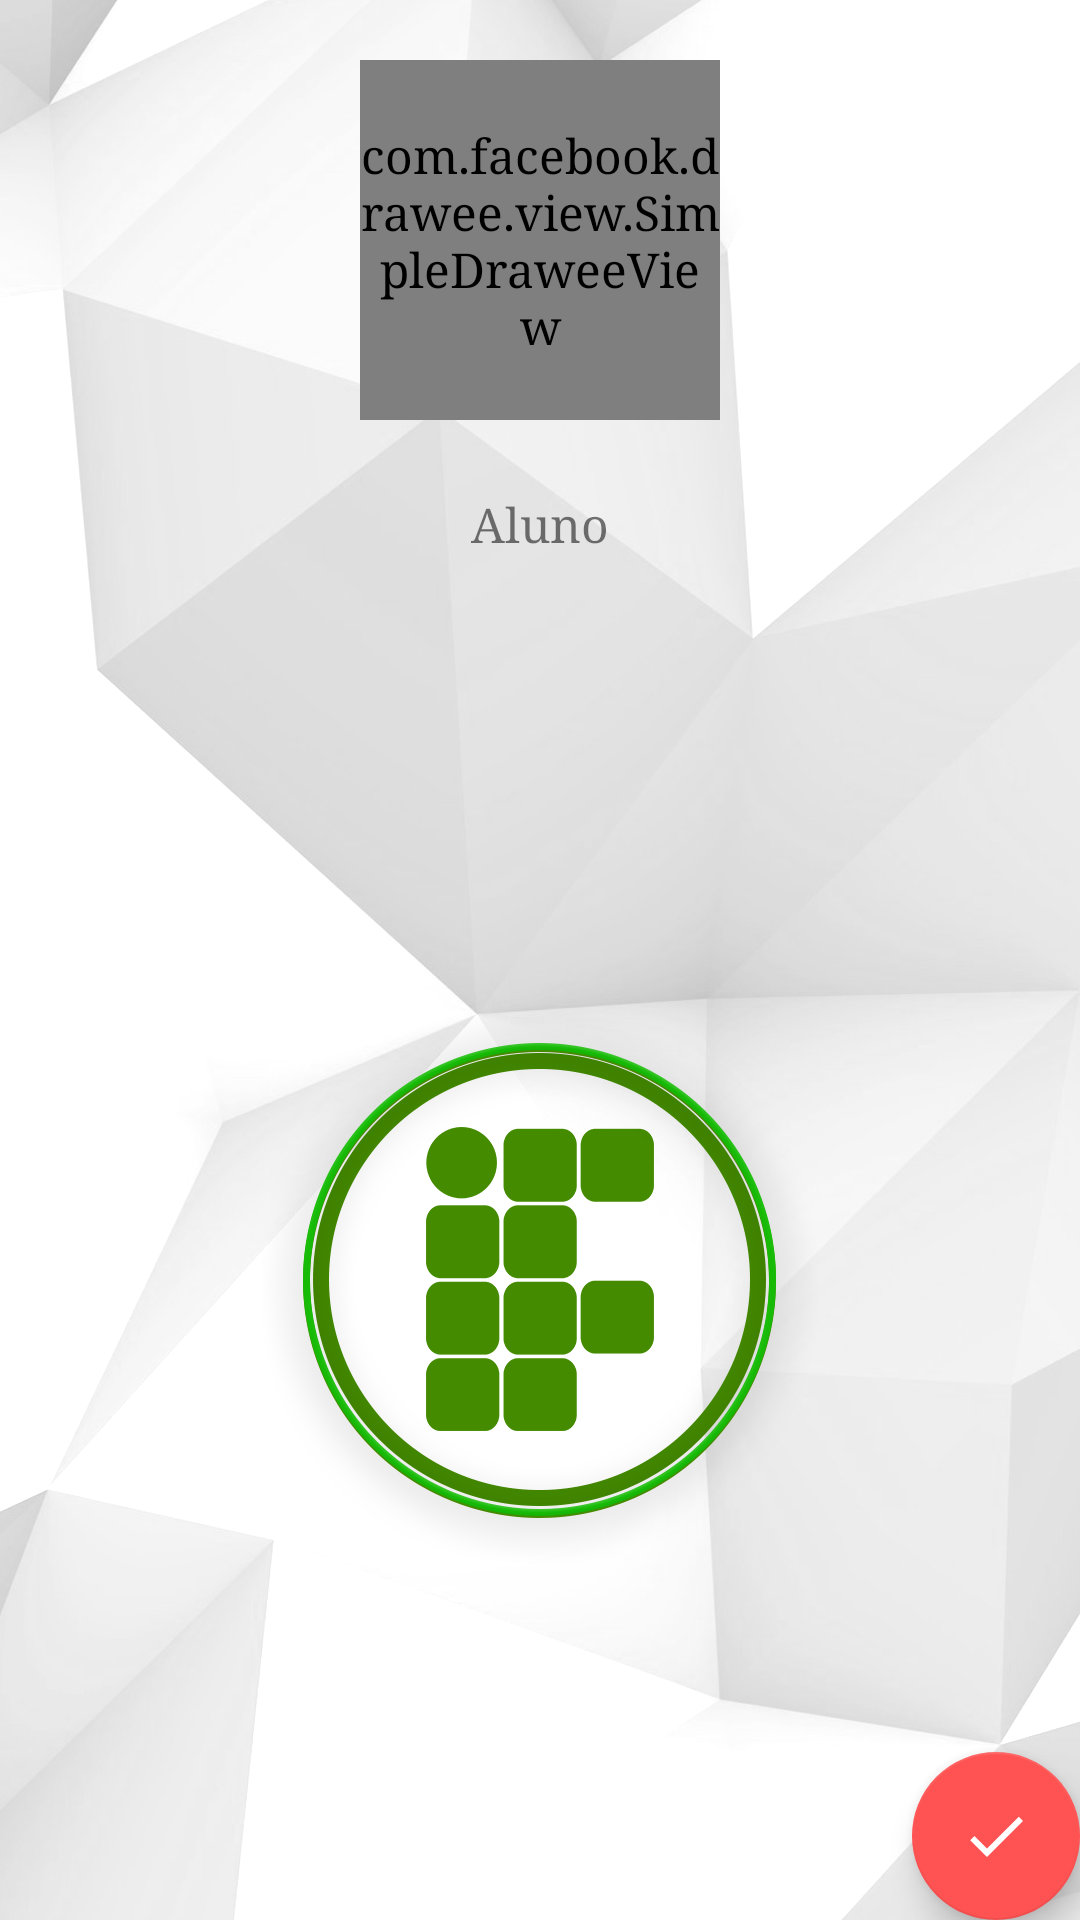

Point at icon controls on the screen. Image size 1080×1920, points as (x,y).
done: (996,1836)
